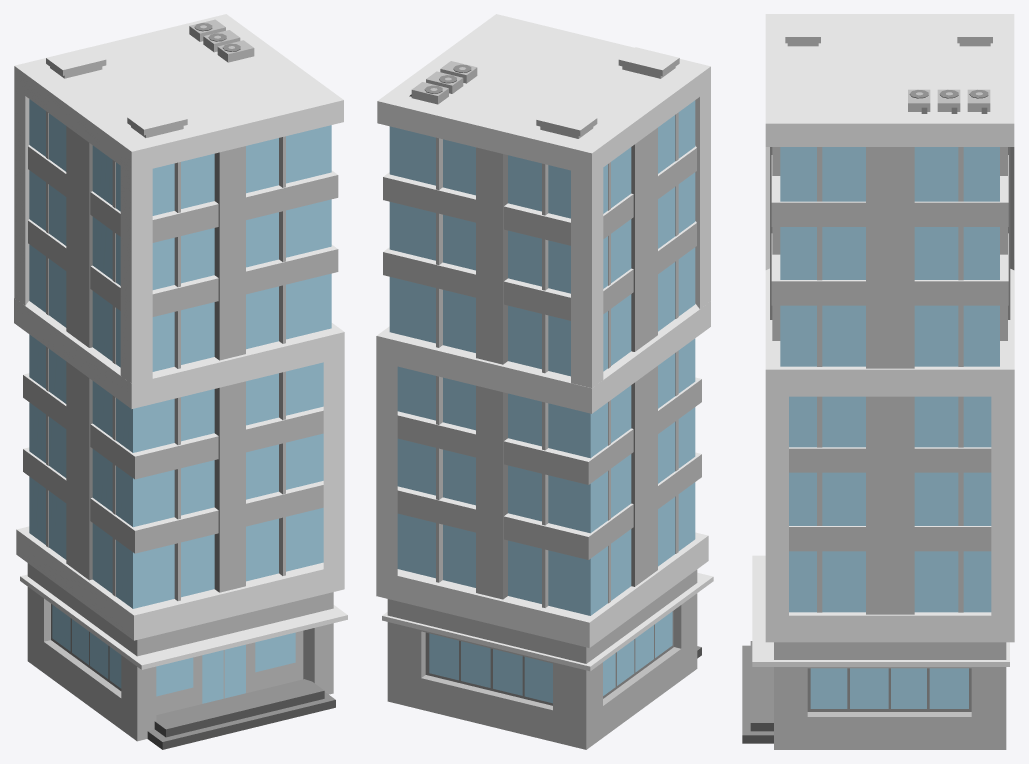
The model's file is house_middle_005.glb.
3 renders of one model, left to right at view 1: azimuth 30°, elevation 25°; view 2: azimuth 150°, elevation 25°; view 3: azimuth 270°, elevation 25°, orthographic. The views are drawn at different scales.
Visible parts, largest first — view 1: house_middle_005; view 2: house_middle_005; view 3: house_middle_005.
Boxes of the visible parts, left/top/right/bottom form: house_middle_005: left=14, top=14, right=347, bottom=749; house_middle_005: left=376, top=14, right=713, bottom=749; house_middle_005: left=742, top=14, right=1014, bottom=749.
Bounding box in the file's own units: 7.21 × 19.57 × 7.54.
1 material, 1 textured.
